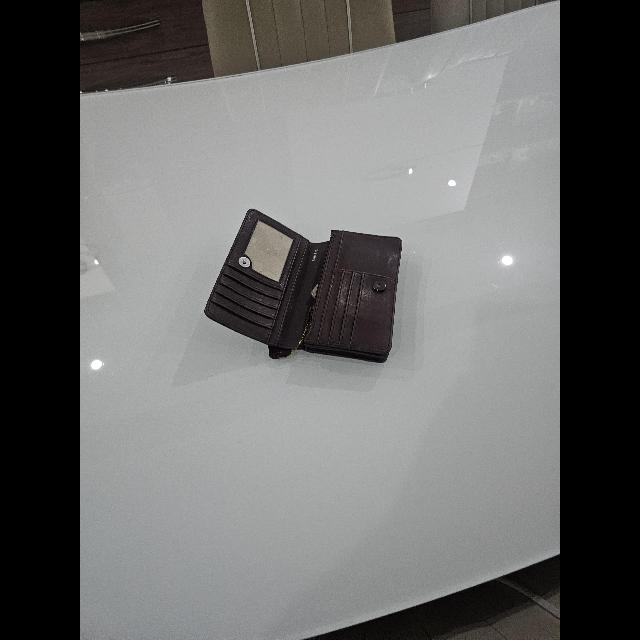Wallet: (205, 210, 402, 362)
